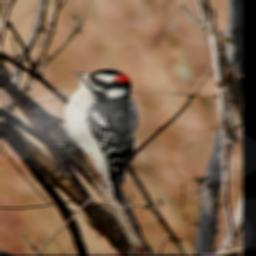Woodpecker: (57, 69, 138, 207)
